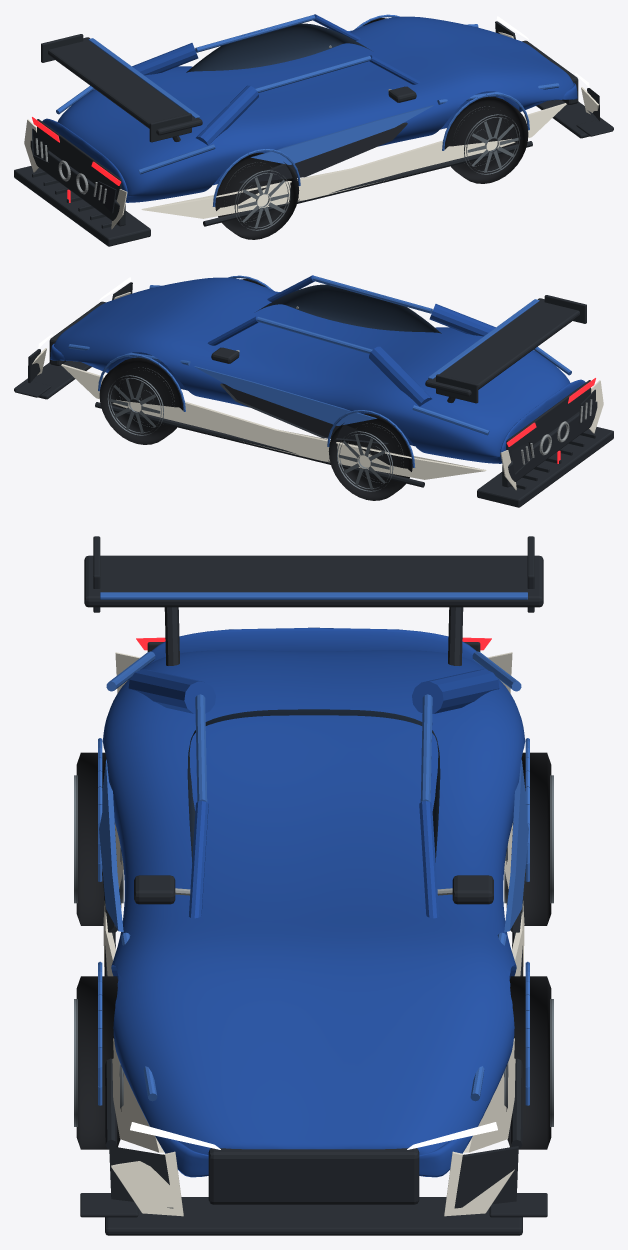
File: direction-a-atlas.glb
3 views of the same model, one above another, from view 1: azimuth 30°, elevation 25°; view 2: azimuth 150°, elevation 25°; view 3: azimuth 270°, elevation 25° (orthographic). The views are drawn at different scales.
Parts seen in each view (by area): view 1: Body, WheelFrontRight, WheelRearRight; view 2: Body, WheelFrontLeft, WheelRearLeft; view 3: Body, WheelFrontLeft, WheelFrontRight, WheelRearLeft, WheelRearRight.
Part boxes in pixels (x1,y1,x2,y2): Body: (14,14,613,246); WheelFrontRight: (444,96,528,183); WheelRearRight: (215,152,299,239); Body: (14,275,613,507); WheelFrontLeft: (99,357,183,444); WheelRearLeft: (328,413,412,500); Body: (80,536,547,1235); WheelFrontLeft: (504,976,553,1149); WheelFrontRight: (74,976,123,1149); WheelRearLeft: (504,752,553,925); WheelRearRight: (74,752,123,925).
Size of the model in its own units: 5.6 by 1.48 by 2.34.
1 material, 1 textured.
